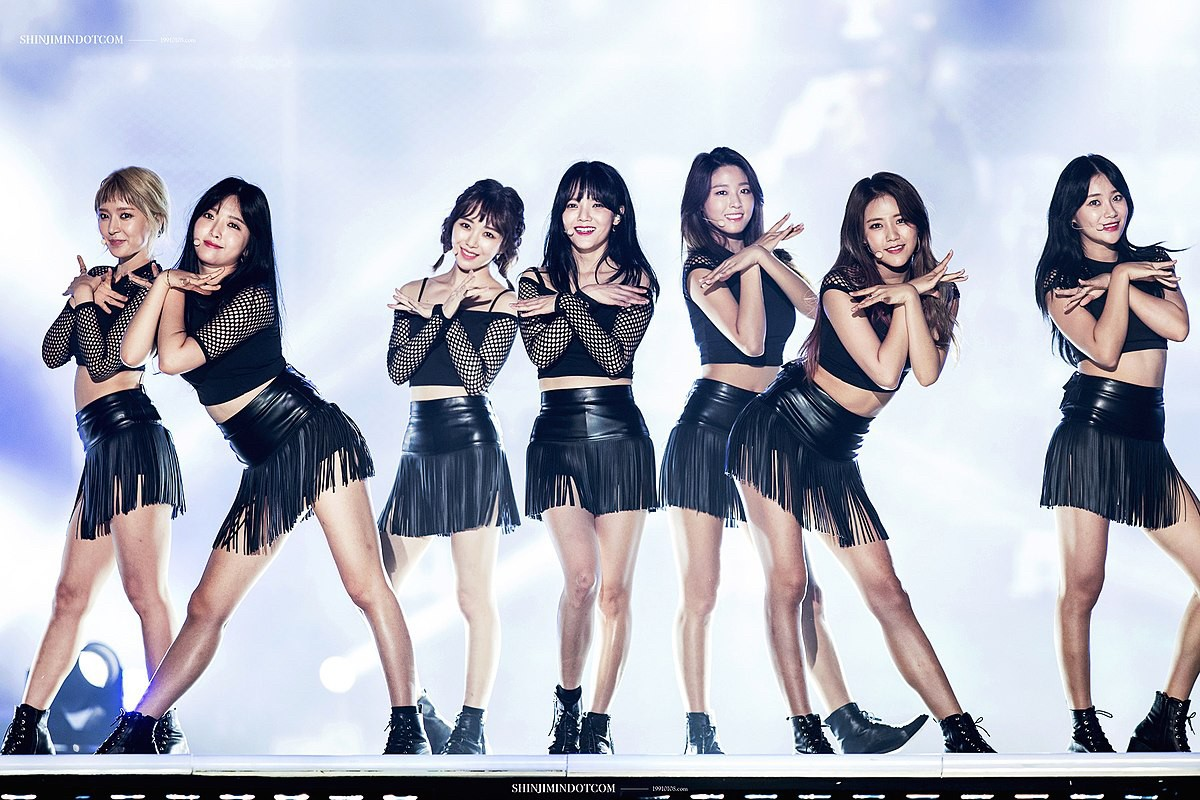people: (1046, 149, 1200, 763), (185, 176, 336, 758), (672, 144, 816, 747), (382, 175, 524, 766), (60, 159, 190, 747), (814, 166, 929, 769), (529, 151, 641, 751)
